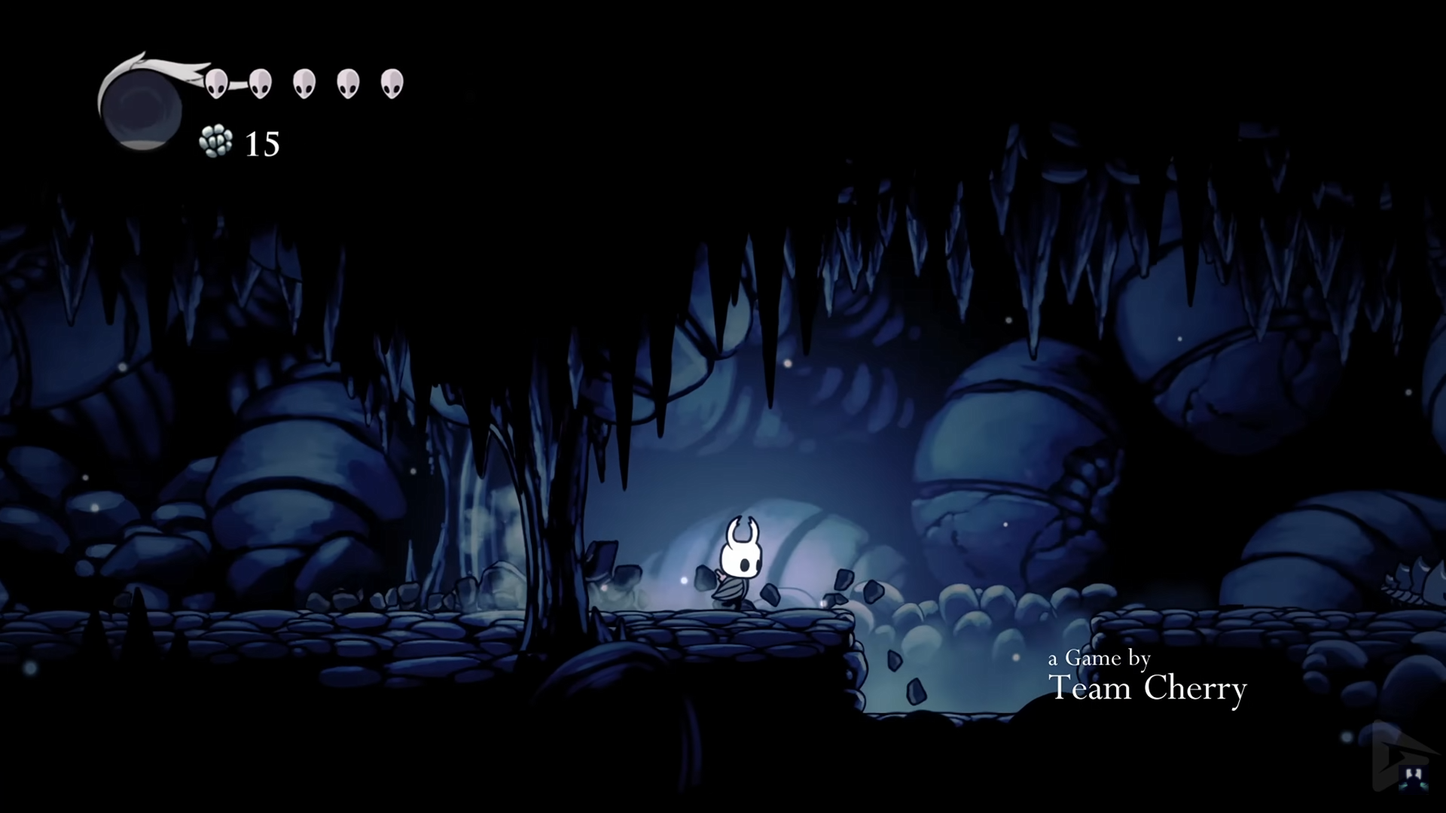HK: (707, 510, 769, 614)
